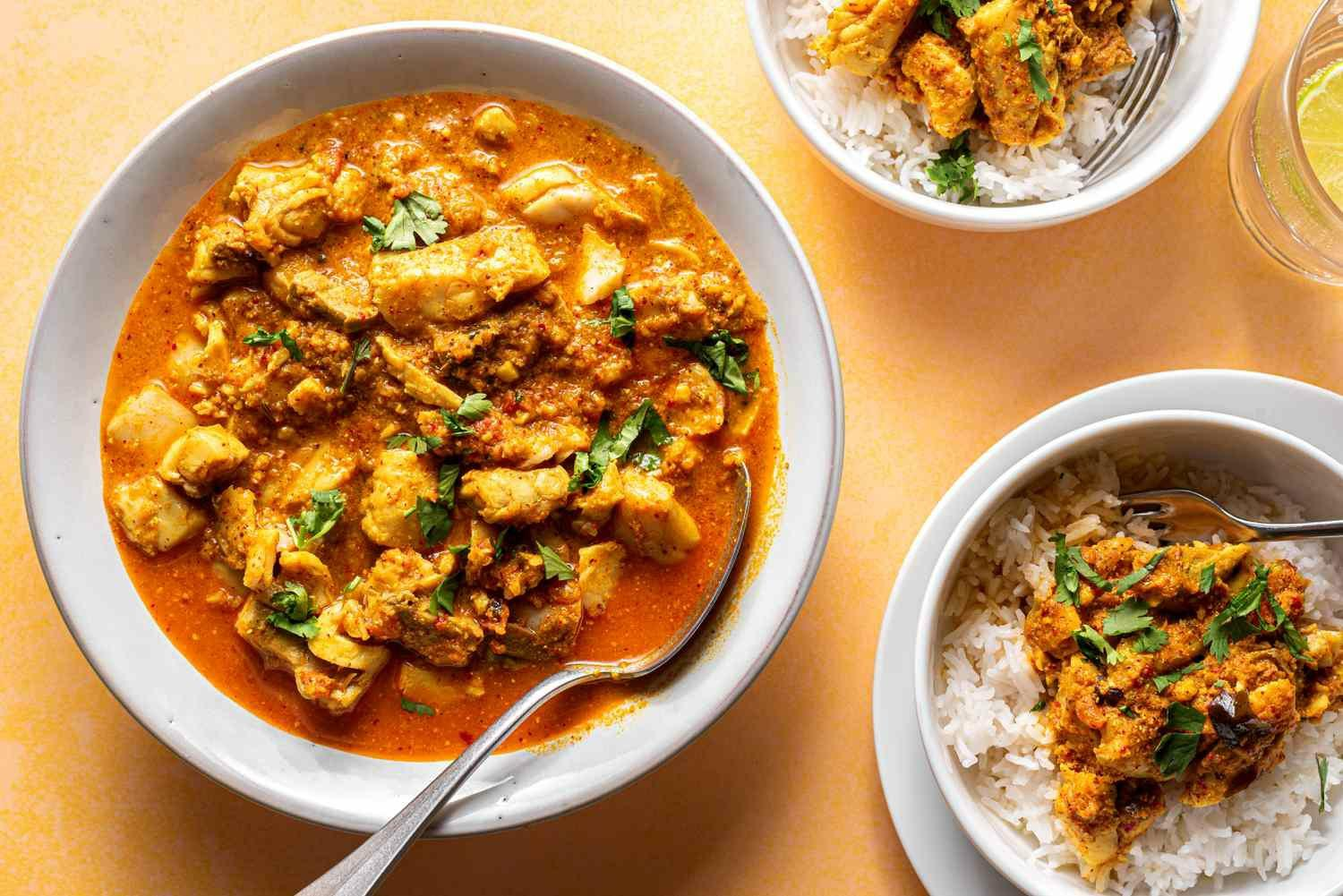FishCurry: (101, 94, 760, 759)
